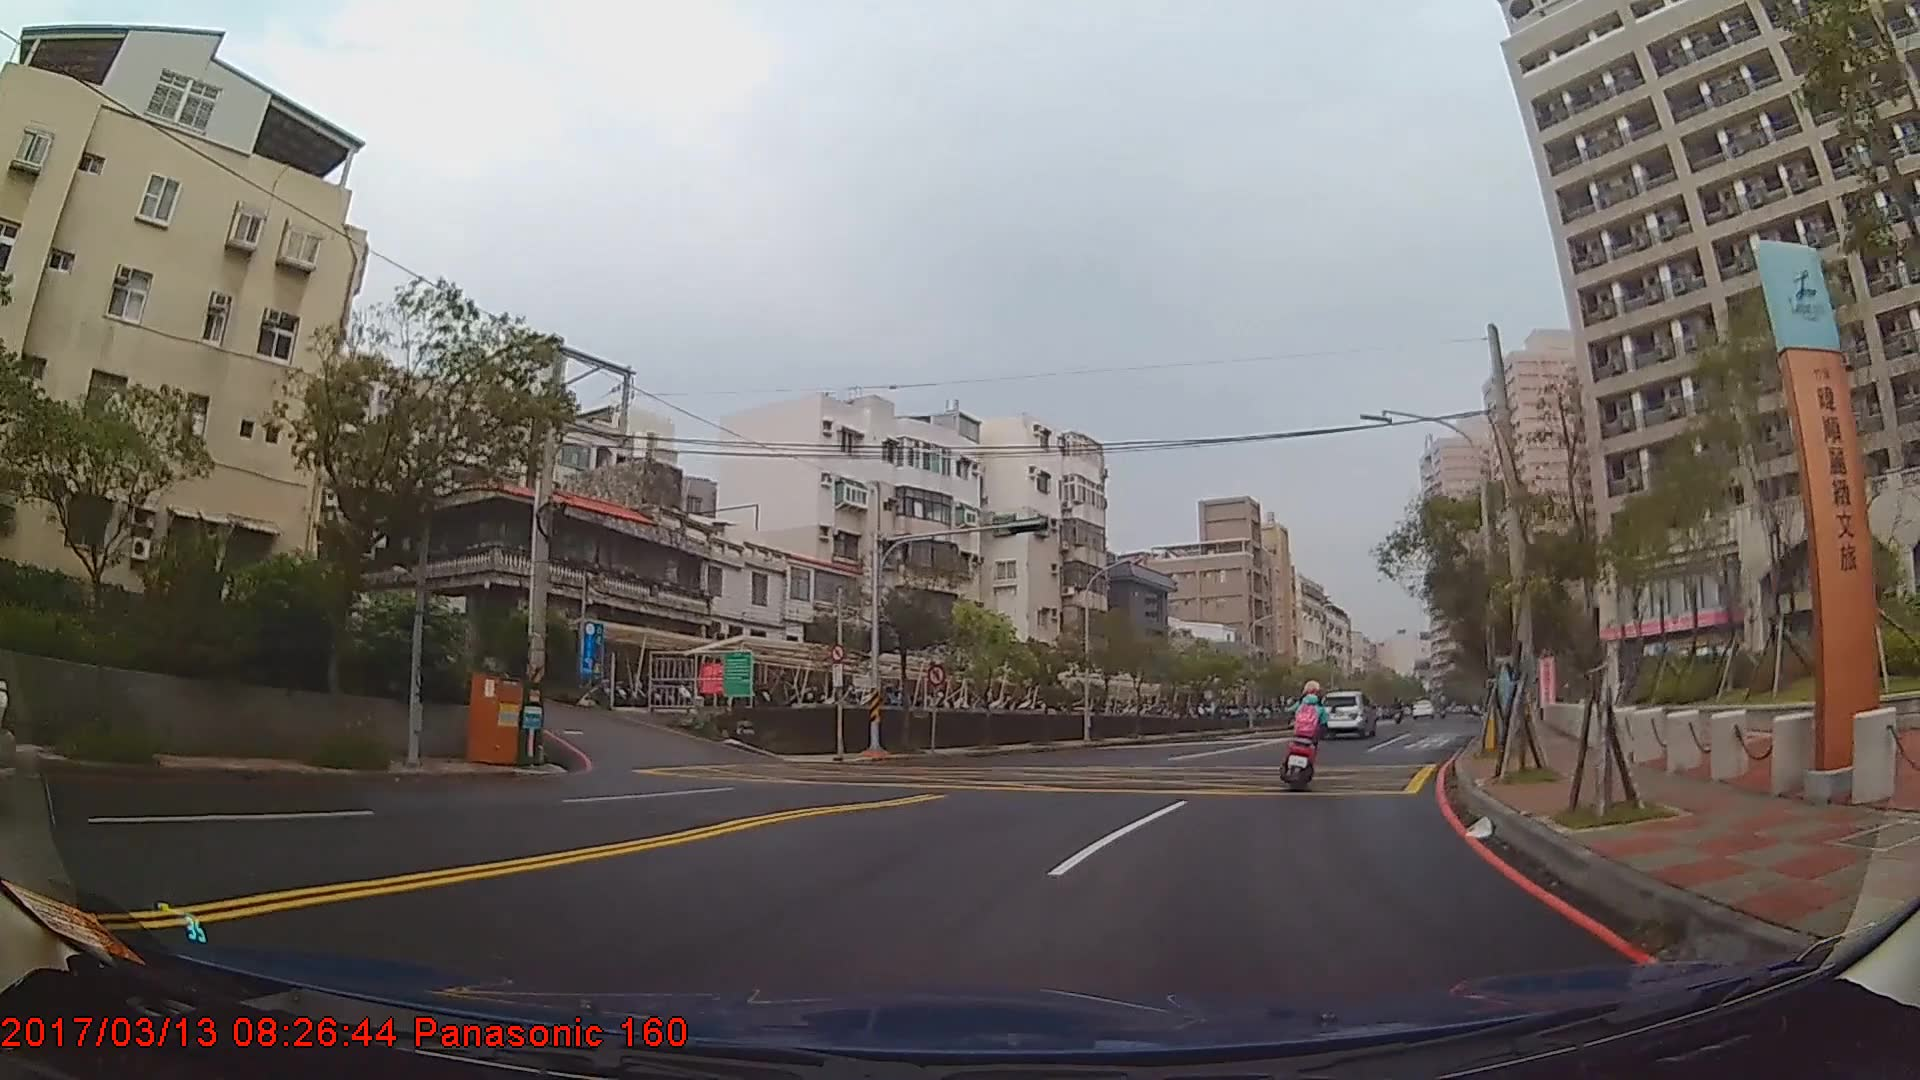rider: (1282, 679, 1331, 789)
vehicle: (1314, 689, 1379, 738)
